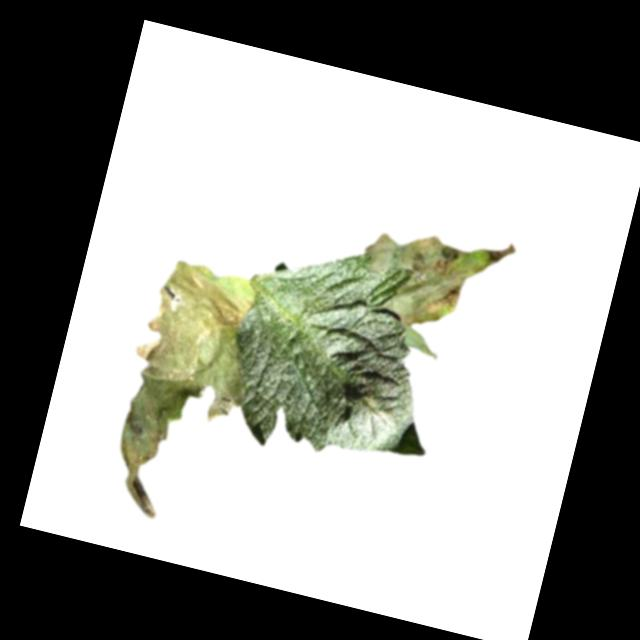Late_blight: (98, 254, 272, 535), (348, 202, 517, 347)
healthy: (211, 229, 469, 484)
